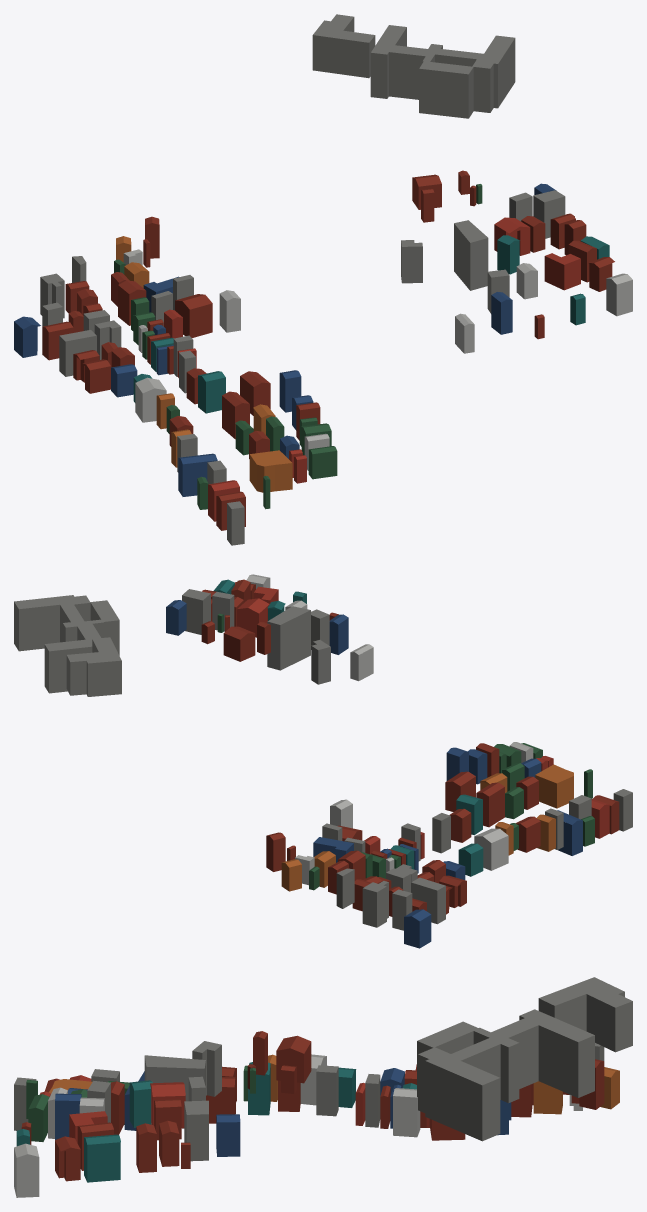
Rendered from near-17-109437-59478.c1731239.glb.
3 renders of one model, top to bottom at view 1: azimuth 30°, elevation 25°; view 2: azimuth 150°, elevation 25°; view 3: azimuth 270°, elevation 25°, orthographic. The views are drawn at different scales.
Size of the model in its own units: 340 by 186 by 309.
